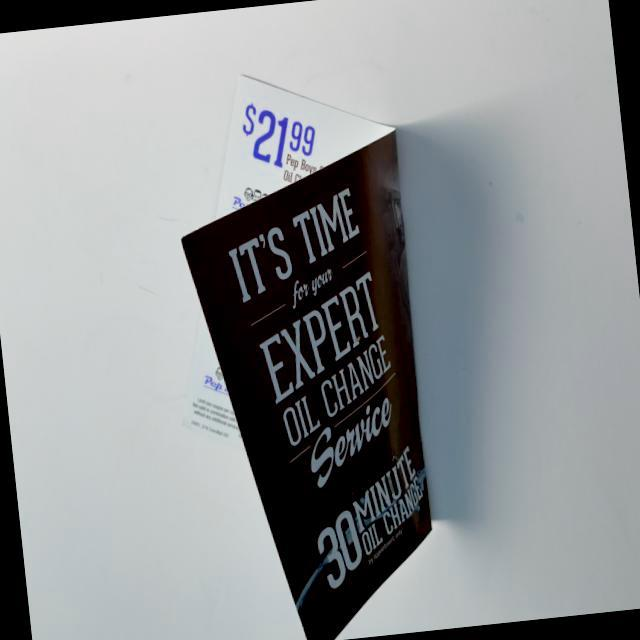paper: (139, 58, 463, 640)
